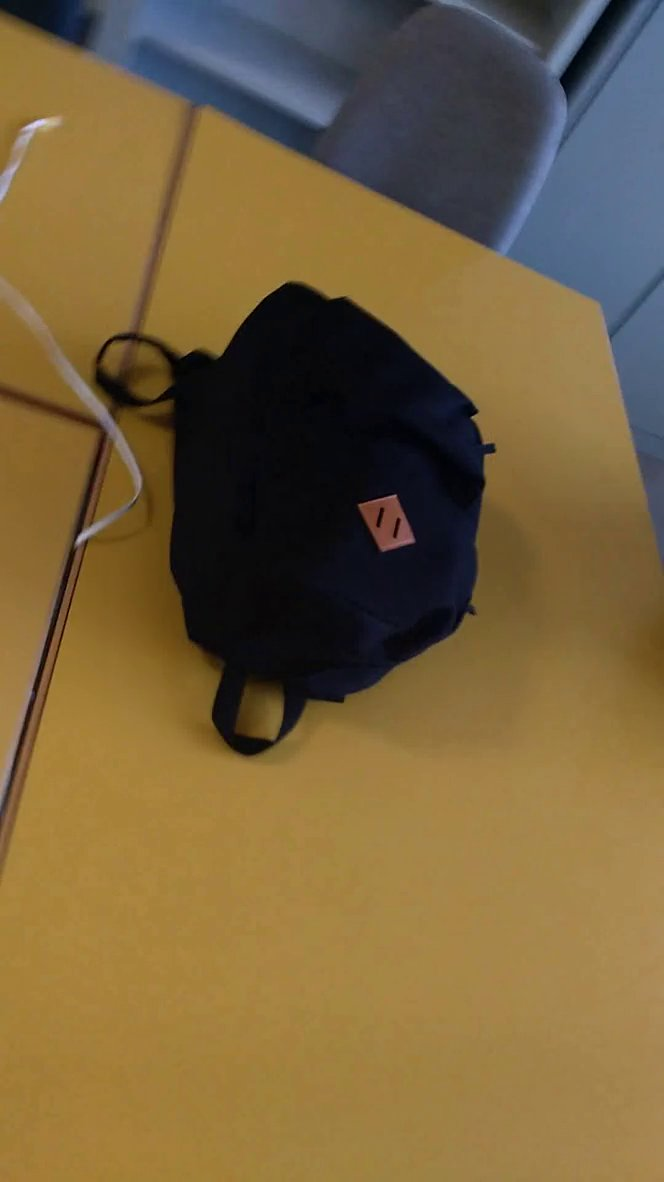bag: (80, 272, 517, 769)
chair: (304, 3, 584, 301)
